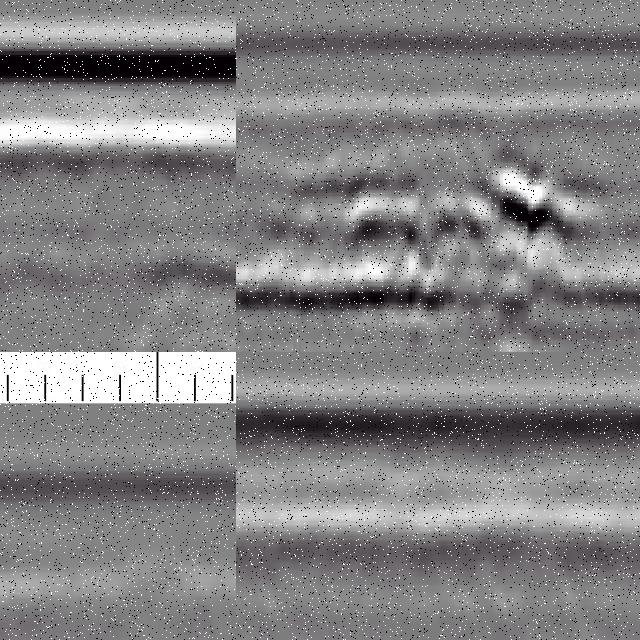loose: (310, 155, 581, 333), (131, 233, 237, 300)
